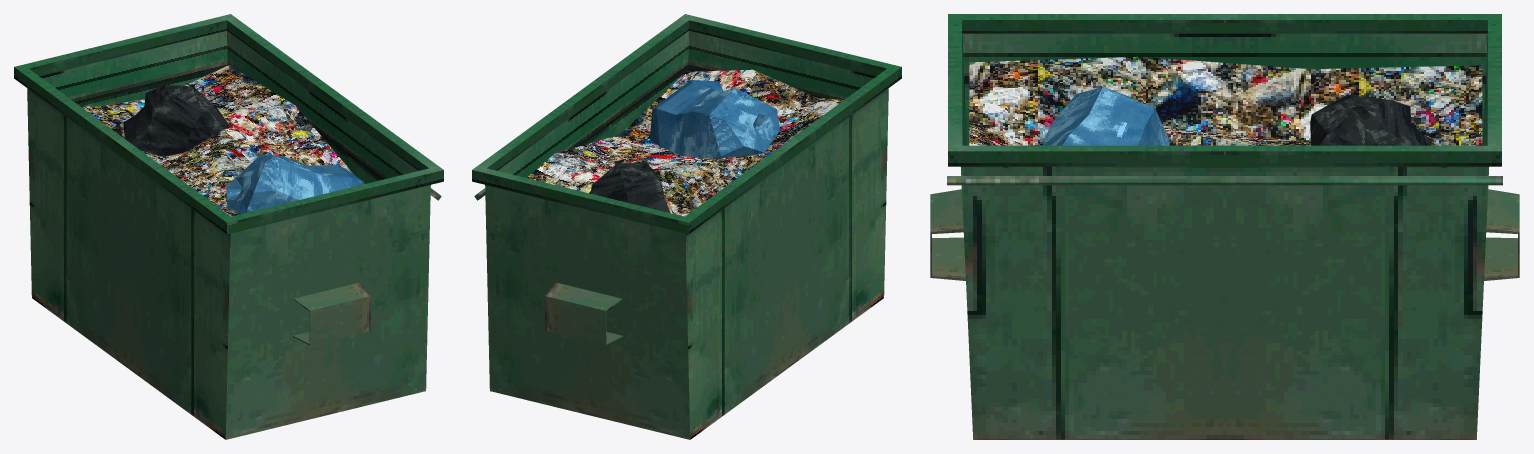
File: dumpster_full_no_lid.glb
3 renders of one model, left to right at view 1: azimuth 30°, elevation 25°; view 2: azimuth 150°, elevation 25°; view 3: azimuth 270°, elevation 25°, orthographic. The views are drawn at different scales.
Visible parts, largest first — view 1: dumpster_full_no_lid; view 2: dumpster_full_no_lid; view 3: dumpster_full_no_lid.
Boxes of the visible parts, x1,y1,x2,y2 form: dumpster_full_no_lid: (14, 14, 443, 439); dumpster_full_no_lid: (472, 14, 901, 439); dumpster_full_no_lid: (930, 14, 1519, 439).
Size of the model in its own units: 2.03 by 2.02 by 3.67.
Materials: 3 (3 with a texture image).
